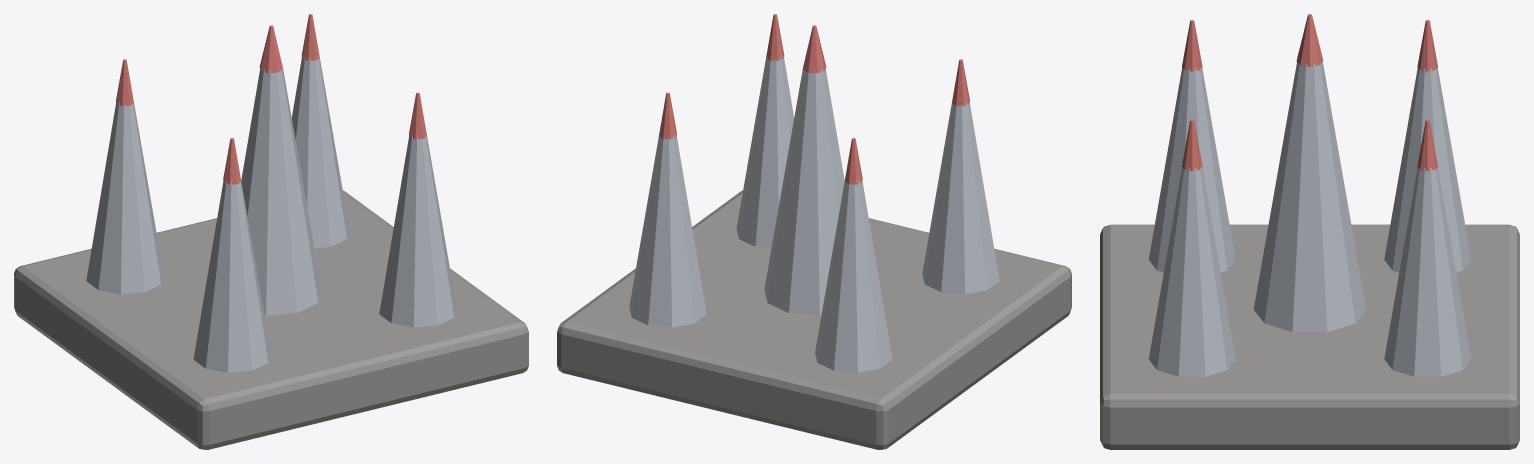
Rendered from hazard_spikes.glb.
The picture shows the model from 3 angles, left to right: view 1: azimuth 30°, elevation 25°; view 2: azimuth 150°, elevation 25°; view 3: azimuth 270°, elevation 25°; orthographic projection. The views are drawn at different scales.
Visible parts, largest first — view 1: SpikeBase, SpikeShaft_0, SpikeShaft_2, SpikeShaft_1, SpikeShaft_3, SpikeShaft_4, SpikeTip_0, SpikeTip_4, SpikeTip_1, SpikeTip_3, SpikeTip_2; view 2: SpikeBase, SpikeShaft_0, SpikeShaft_4, SpikeShaft_1, SpikeShaft_3, SpikeShaft_2, SpikeTip_0, SpikeTip_2, SpikeTip_3, SpikeTip_1, SpikeTip_4; view 3: SpikeBase, SpikeShaft_0, SpikeShaft_2, SpikeShaft_4, SpikeShaft_1, SpikeShaft_3, SpikeTip_0, SpikeTip_1, SpikeTip_3, SpikeTip_2, SpikeTip_4.
Boxes of the visible parts, <box> form: SpikeBase: <box>14,190,528,449</box>; SpikeShaft_0: <box>241,65,321,315</box>; SpikeShaft_2: <box>379,134,456,327</box>; SpikeShaft_1: <box>193,179,270,372</box>; SpikeShaft_3: <box>86,101,163,294</box>; SpikeShaft_4: <box>292,56,349,248</box>; SpikeTip_0: <box>259,25,283,73</box>; SpikeTip_4: <box>301,14,319,60</box>; SpikeTip_1: <box>223,138,241,184</box>; SpikeTip_3: <box>116,59,133,106</box>; SpikeTip_2: <box>409,92,426,139</box>; SpikeBase: <box>557,190,1071,449</box>; SpikeShaft_0: <box>764,65,844,315</box>; SpikeShaft_4: <box>629,134,706,327</box>; SpikeShaft_1: <box>922,101,999,294</box>; SpikeShaft_3: <box>815,179,892,372</box>; SpikeShaft_2: <box>736,56,793,248</box>; SpikeTip_0: <box>802,25,826,73</box>; SpikeTip_2: <box>766,14,784,60</box>; SpikeTip_3: <box>844,138,862,184</box>; SpikeTip_1: <box>952,59,969,106</box>; SpikeTip_4: <box>659,92,676,139</box>; SpikeBase: <box>1100,224,1519,449</box>; SpikeShaft_0: <box>1253,62,1366,332</box>; SpikeShaft_2: <box>1148,167,1235,376</box>; SpikeShaft_4: <box>1384,167,1471,376</box>; SpikeShaft_1: <box>1148,67,1235,272</box>; SpikeShaft_3: <box>1384,67,1471,272</box>; SpikeTip_0: <box>1296,14,1323,66</box>; SpikeTip_1: <box>1182,20,1202,71</box>; SpikeTip_3: <box>1417,20,1437,71</box>; SpikeTip_2: <box>1182,119,1202,170</box>; SpikeTip_4: <box>1417,119,1437,170</box>.
Bounding box in the file's own units: 0.706 × 0.65 × 0.706.
